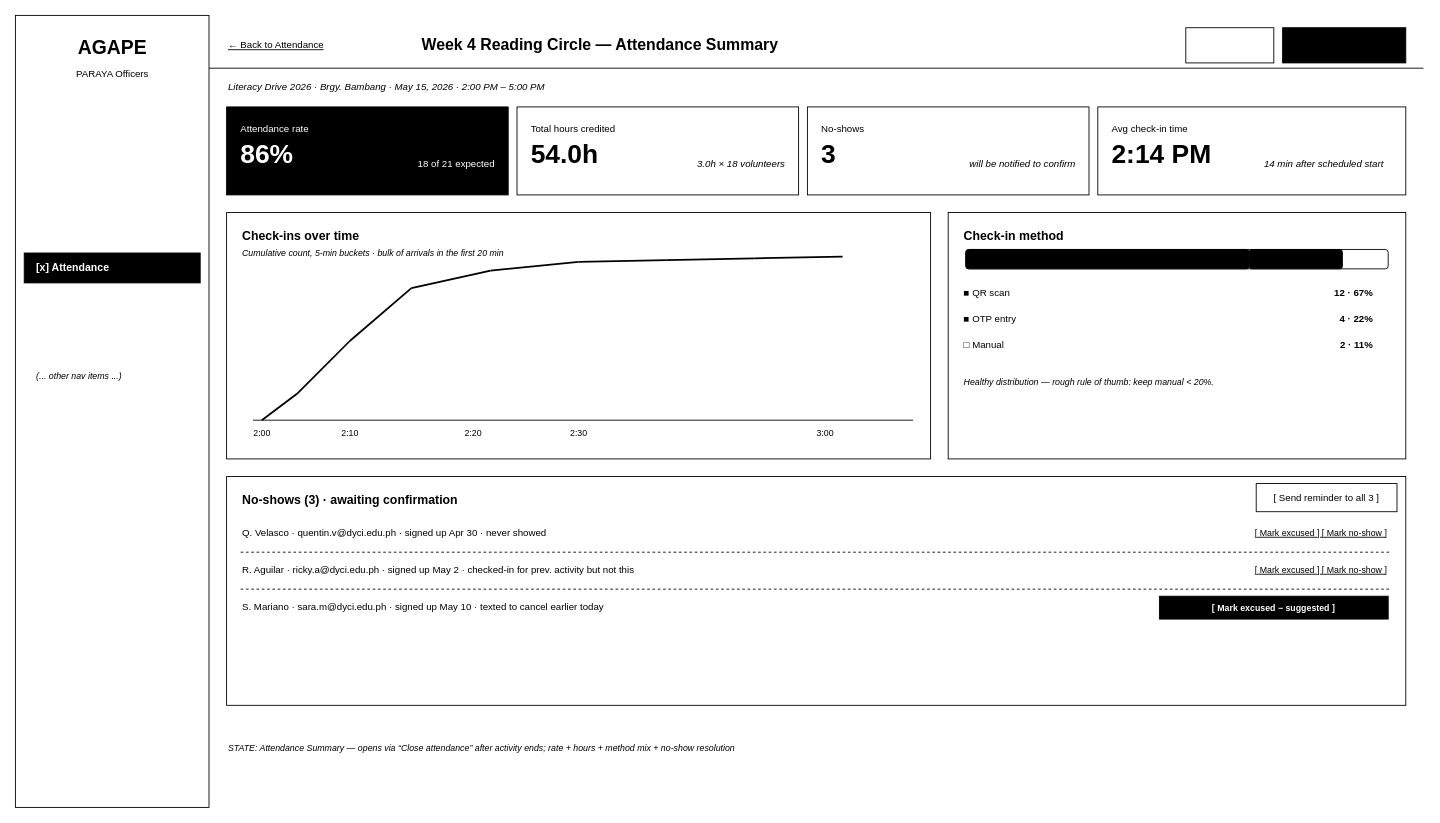
Image size: 1440x823. Some labels were removed from this diagram. Each missing label, with the centre of its shape:
[ Close attendance ]: (x=1344, y=45)
[ Export ]: (x=1229, y=45)
